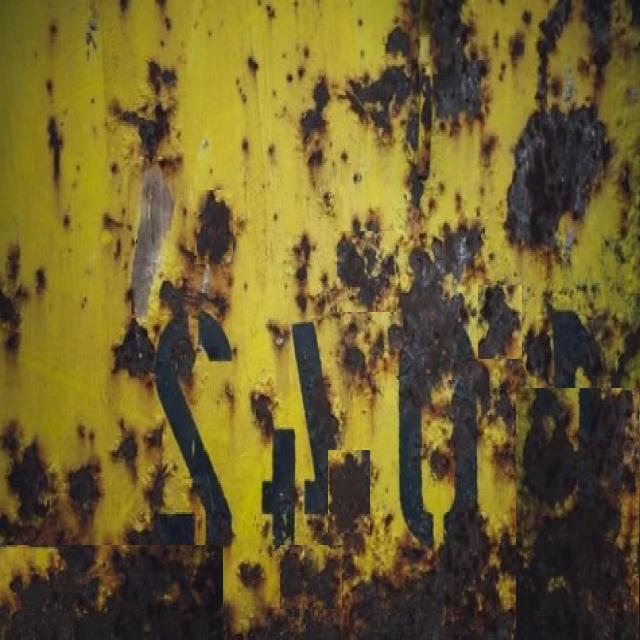Corrosion: (0, 0, 640, 636), (517, 389, 640, 640), (399, 225, 490, 546), (249, 561, 515, 640), (0, 547, 223, 640), (155, 282, 231, 546), (437, 360, 491, 640), (507, 105, 611, 248), (293, 323, 338, 515), (524, 389, 578, 506), (337, 211, 397, 308), (346, 65, 412, 136), (431, 0, 468, 122), (330, 451, 371, 552), (552, 311, 604, 388), (263, 430, 296, 548), (537, 0, 572, 110), (7, 441, 48, 524), (479, 285, 521, 359), (120, 103, 169, 160), (198, 280, 232, 362), (329, 451, 371, 516), (197, 191, 234, 264), (113, 319, 155, 378), (67, 463, 101, 532), (586, 0, 613, 84), (127, 514, 195, 546), (301, 75, 331, 144), (613, 324, 640, 387), (293, 233, 313, 312), (111, 420, 136, 480), (144, 464, 171, 514), (280, 549, 305, 600), (154, 515, 194, 546), (46, 116, 63, 184), (137, 117, 165, 158), (319, 558, 340, 609), (251, 392, 274, 438), (496, 382, 517, 432), (408, 163, 426, 208), (343, 346, 367, 376), (422, 72, 434, 132), (386, 25, 409, 56), (266, 321, 290, 350), (0, 289, 18, 326), (370, 331, 385, 370), (5, 245, 20, 282), (620, 162, 634, 200), (407, 110, 420, 150), (388, 324, 405, 354), (143, 425, 163, 449), (148, 60, 161, 94), (422, 97, 433, 131), (102, 213, 123, 230), (5, 330, 19, 352), (308, 148, 323, 168), (125, 288, 134, 316), (62, 214, 70, 228)
